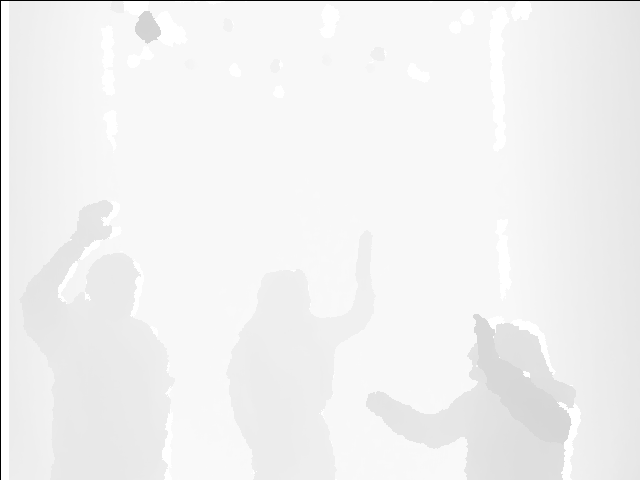hand: (469, 312, 503, 369), (76, 199, 114, 247), (350, 230, 381, 268)
